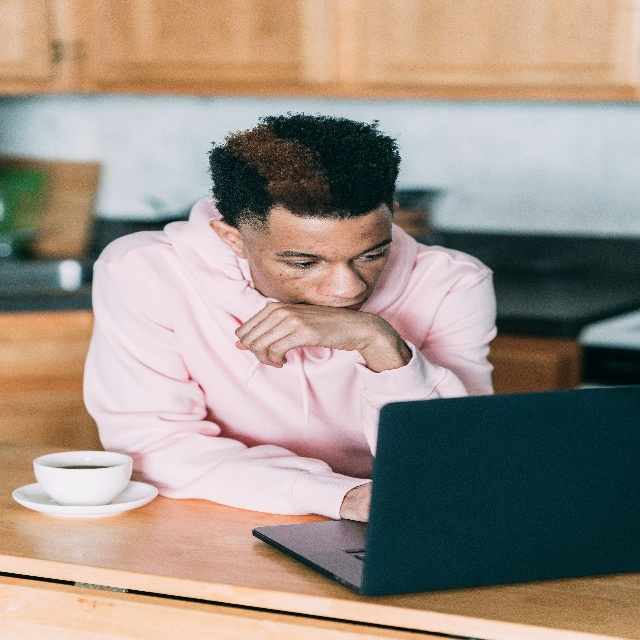Sin_guantes: (233, 300, 374, 371), (341, 474, 374, 527)
